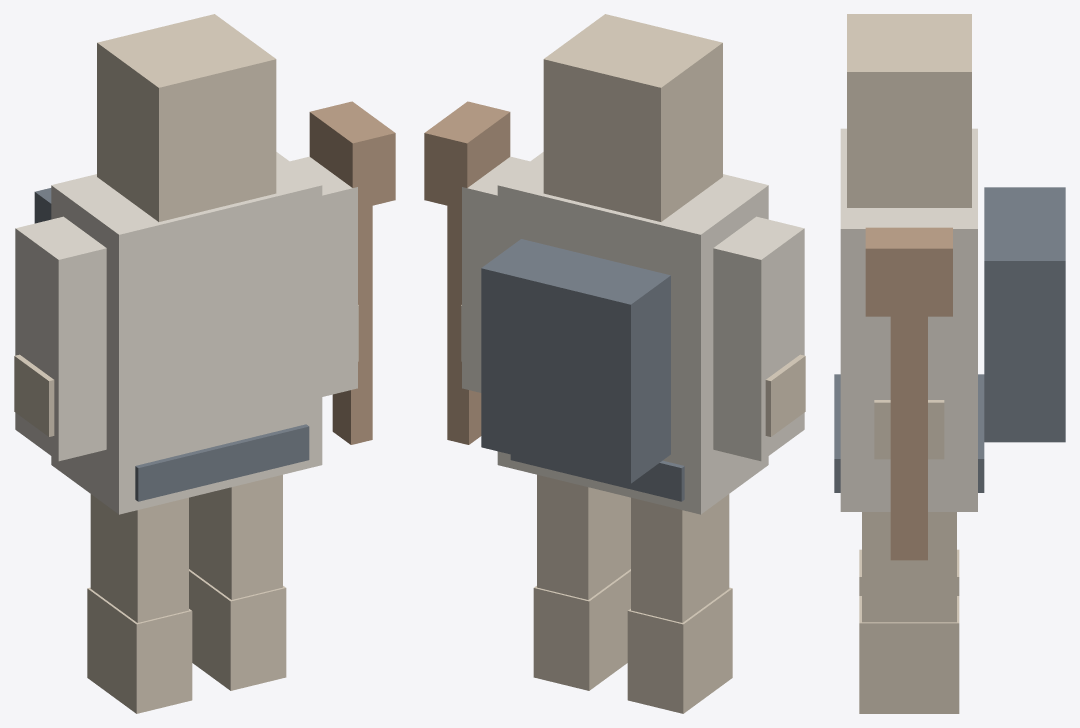
File: unit-builder.glb
3 views of the same model, side by side, from view 1: azimuth 30°, elevation 25°; view 2: azimuth 150°, elevation 25°; view 3: azimuth 270°, elevation 25° (orthographic).
Parts seen in each view (by area): view 1: unit-builder; view 2: unit-builder; view 3: unit-builder.
Part boxes in pixels (<box>): unit-builder: <box>14,14,395,713</box>; unit-builder: <box>424,14,805,713</box>; unit-builder: <box>834,14,1065,713</box>.
Size of the model in its own units: 0.32 by 0.56 by 0.185.
